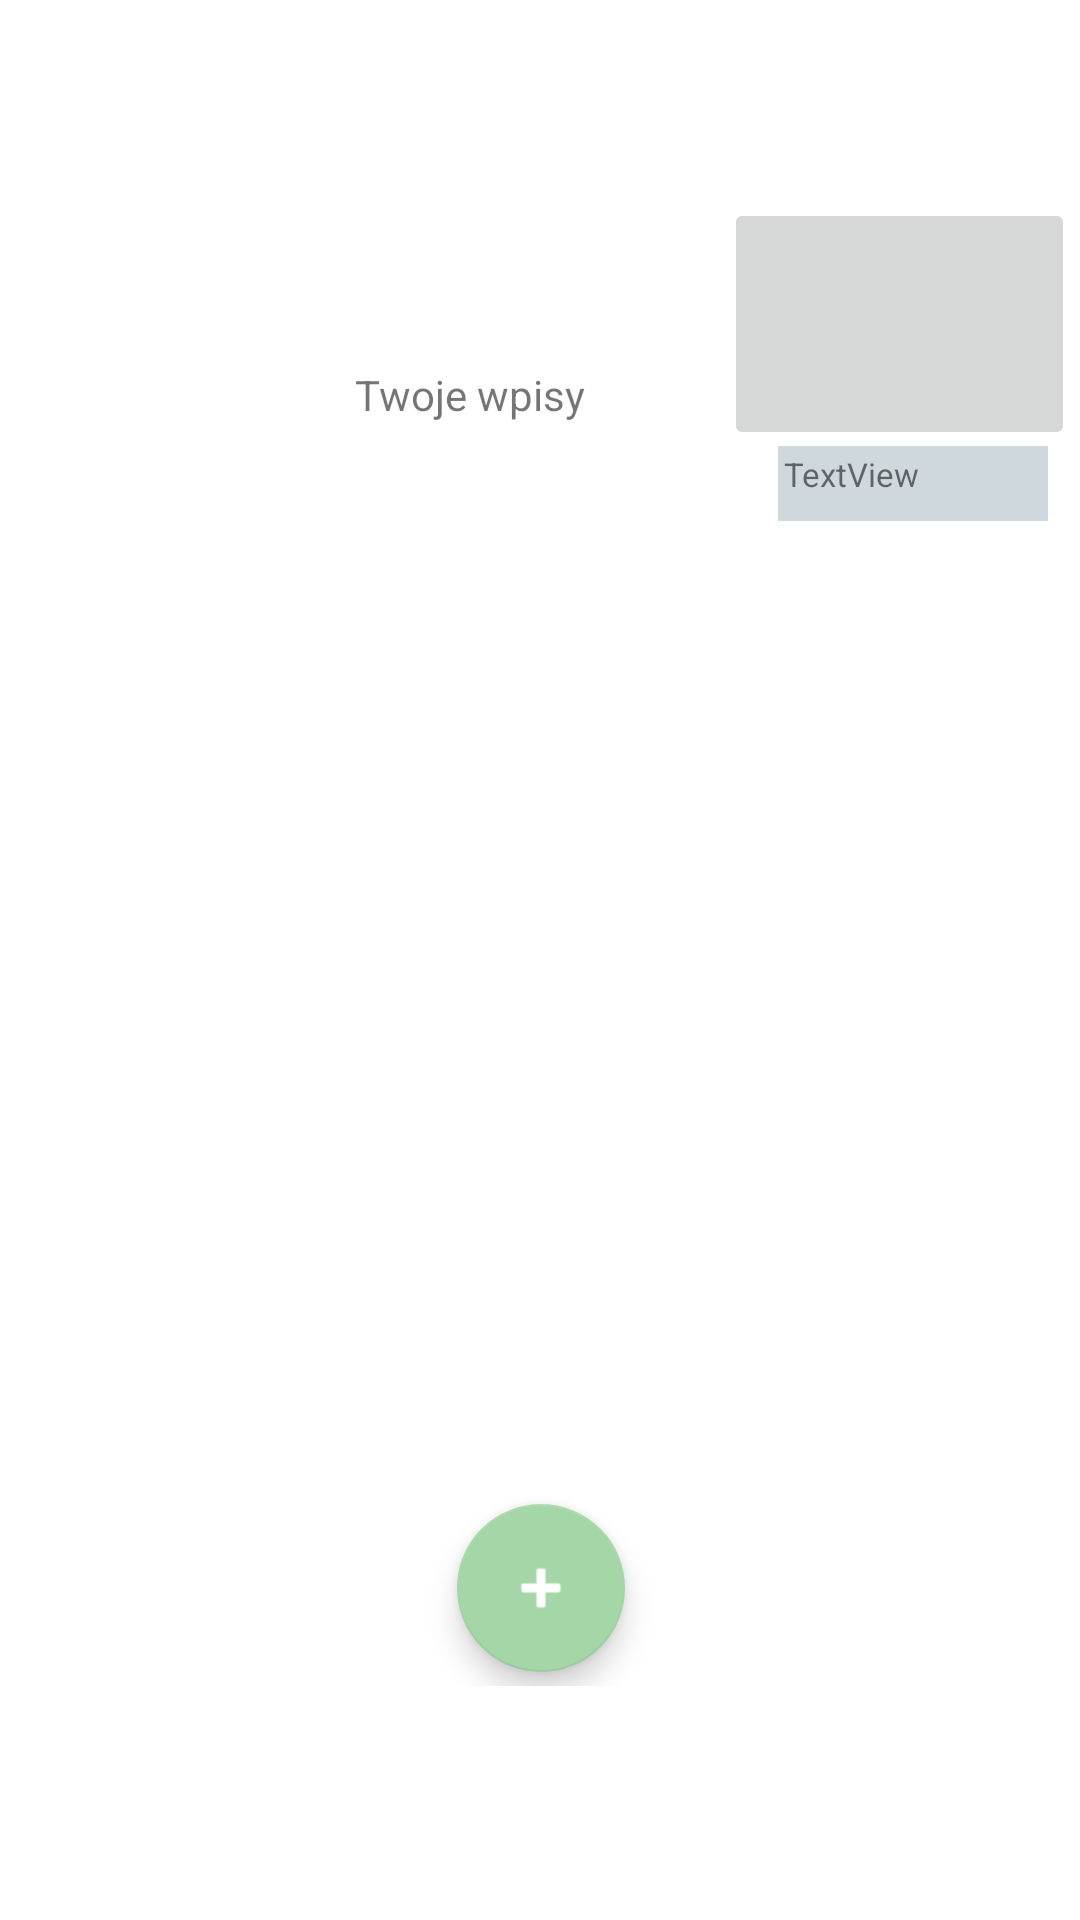

Where icons sit on this 1080*1920 app screen, as bbox=(x1, y1, x2, y2):
add: bbox=(457, 1504, 625, 1672)
